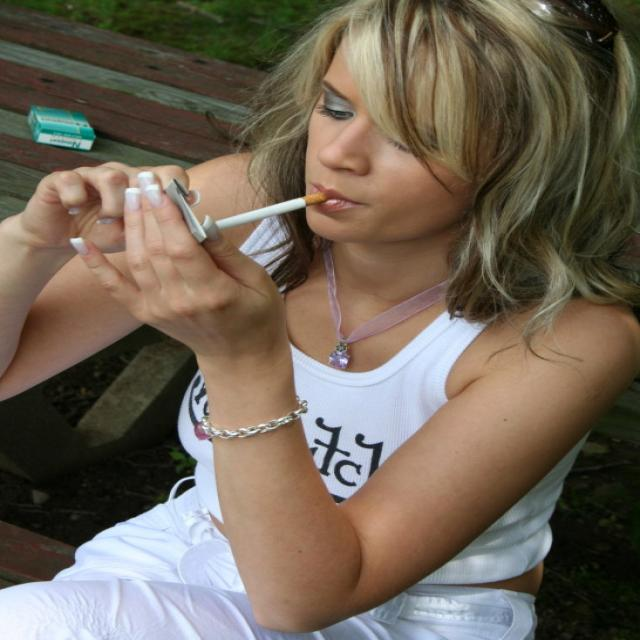smoke: (200, 189, 336, 239)
